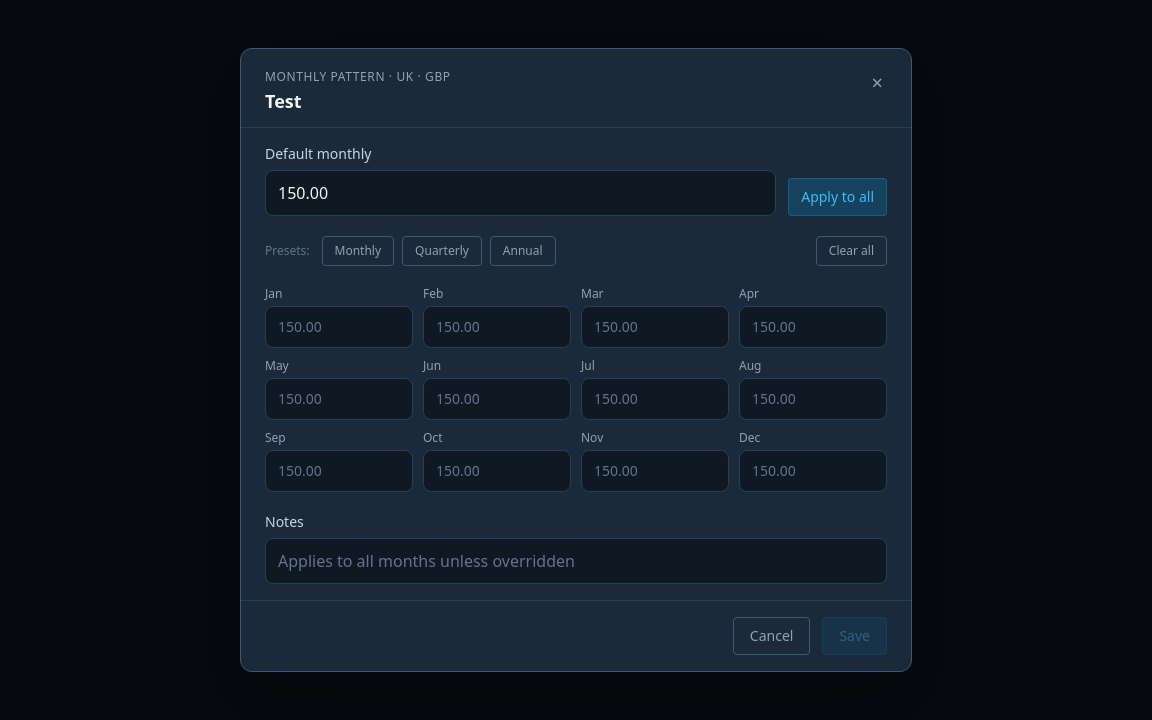
Test: BudgetPatternModal › Quarterly preset sets Mar/Jun/Sep/Dec; others to 0
The image size is (1152, 720).
Click the button "Quarterly" at (442, 251), box x1=402 y1=236 x2=482 y2=266
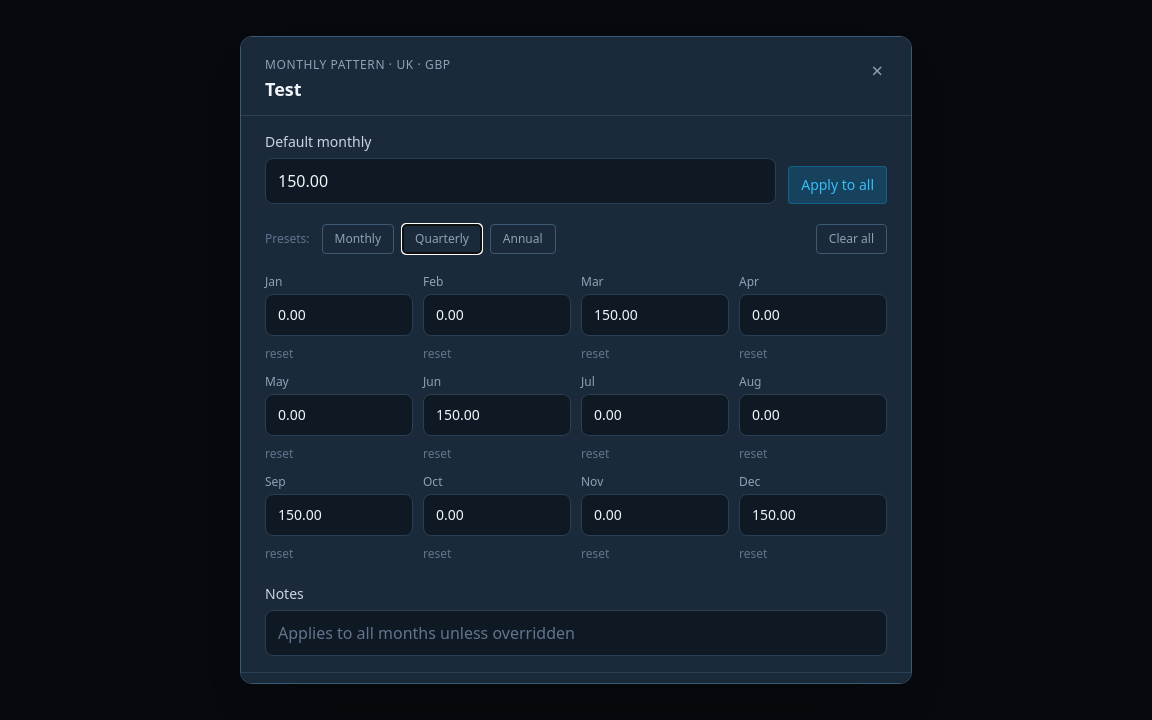
Check: the number field named "override for mar" holds "150", box x1=581 y1=294 x2=729 y2=336
Check: the number field named "override for jun" holds "150", box x1=423 y1=394 x2=571 y2=436
Check: the number field named "override for sep" holds "150", box x1=265 y1=494 x2=413 y2=536
